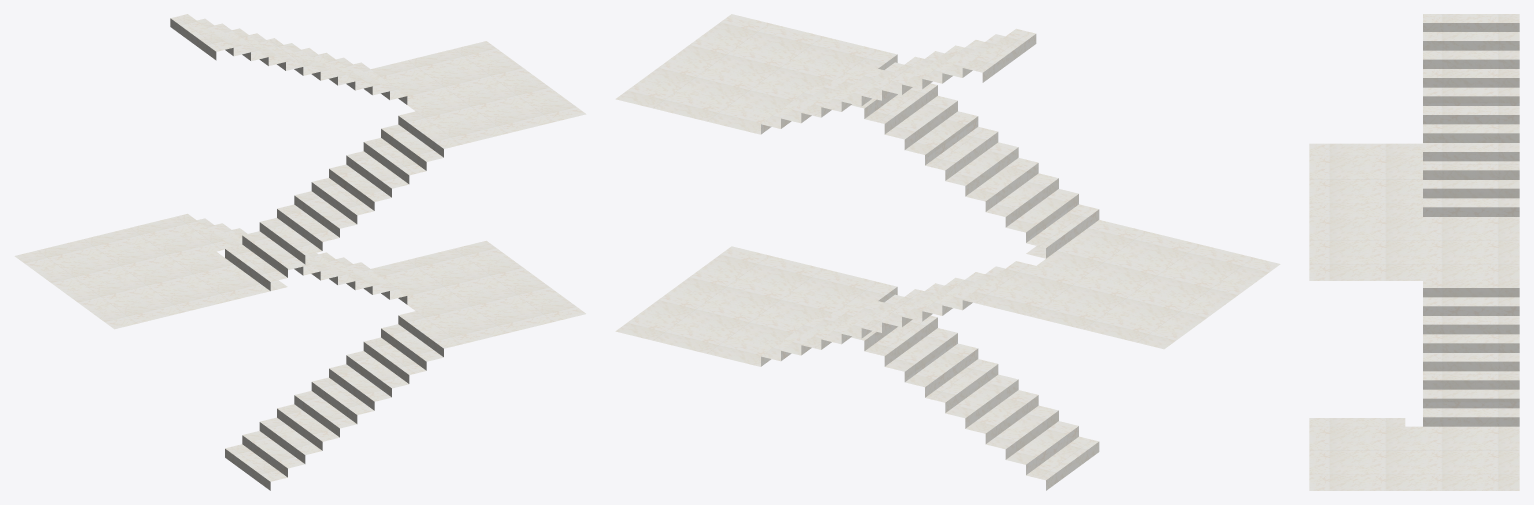
File: LouDao-34.FBX
3 renders of one model, left to right at view 1: azimuth 30°, elevation 25°; view 2: azimuth 150°, elevation 25°; view 3: azimuth 270°, elevation 25°, orthographic. The views are drawn at different scales.
Visible parts, largest first — view 1: LouDao-34; view 2: LouDao-34; view 3: LouDao-34.
Part boxes in pixels (left/top/right/bottom): LouDao-34: left=14, top=14, right=586, bottom=490; LouDao-34: left=615, top=14, right=1280, bottom=490; LouDao-34: left=1309, top=14, right=1519, bottom=490.
Bounding box in the file's own units: 8166 × 6600 × 3000.
